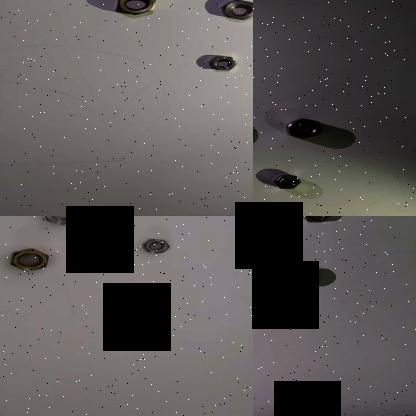NUTS: (5, 246, 52, 272), (279, 116, 325, 140), (279, 264, 319, 288), (113, 0, 159, 15), (219, 0, 253, 20), (141, 236, 173, 254), (208, 54, 238, 72), (271, 174, 303, 190), (40, 216, 82, 224), (298, 216, 332, 225)
